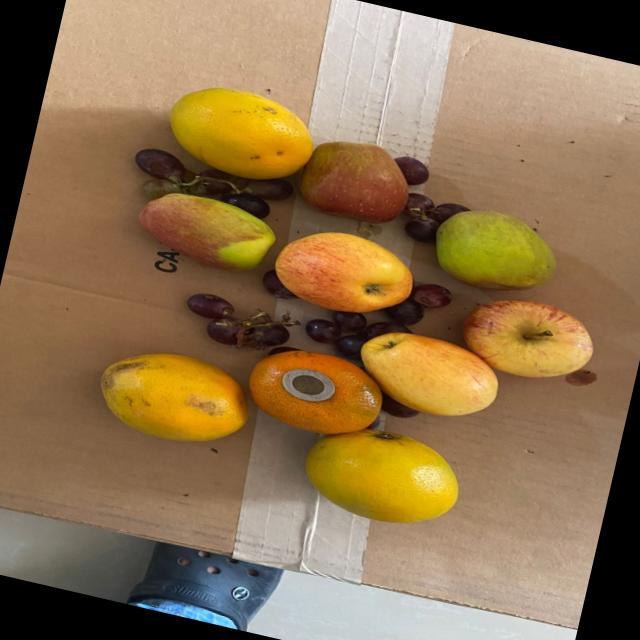moneda: (278, 362, 336, 407)
